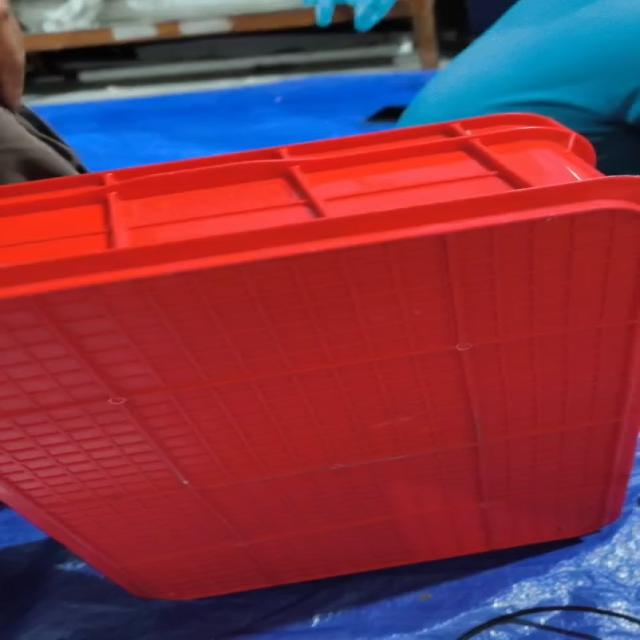red plastic box: (0, 112, 639, 601)
